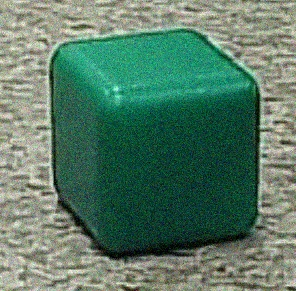green_cube: (45, 23, 279, 262)
